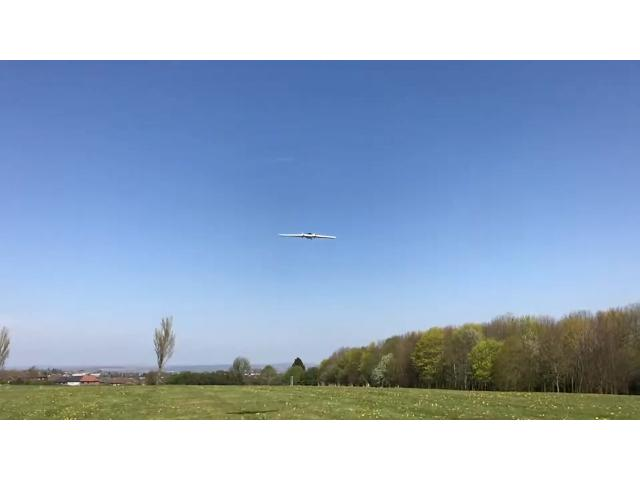Anti-Drone: (278, 230, 338, 242)
